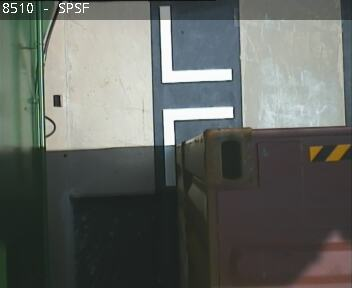groundmarker_1: (159, 4, 234, 184)
